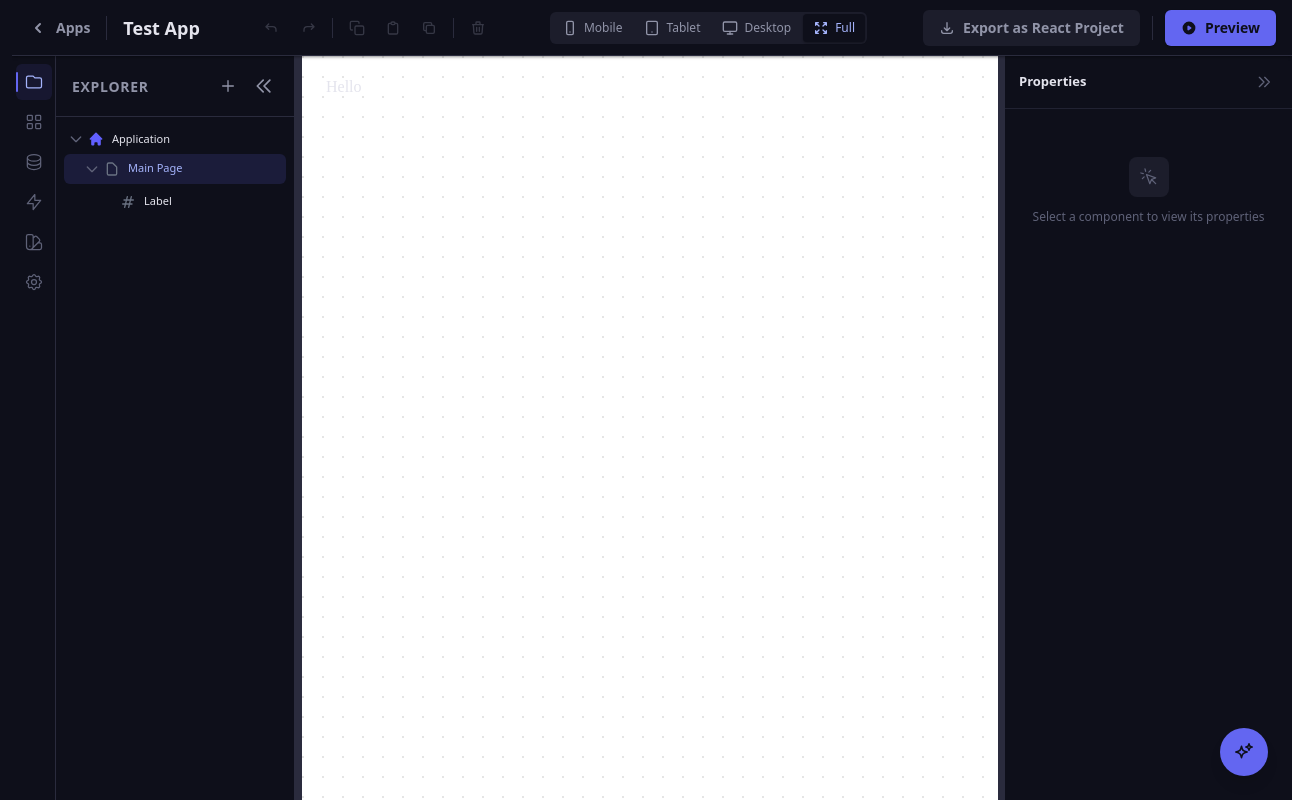
Test: Editor › should open AI chat panel when the AI button is clicked
expect the heading "Test App" is shown: met, box [123,14,200,42]
Click the button with test id "ai-chat-button" at (1244, 752), box [1220,728,1268,776]
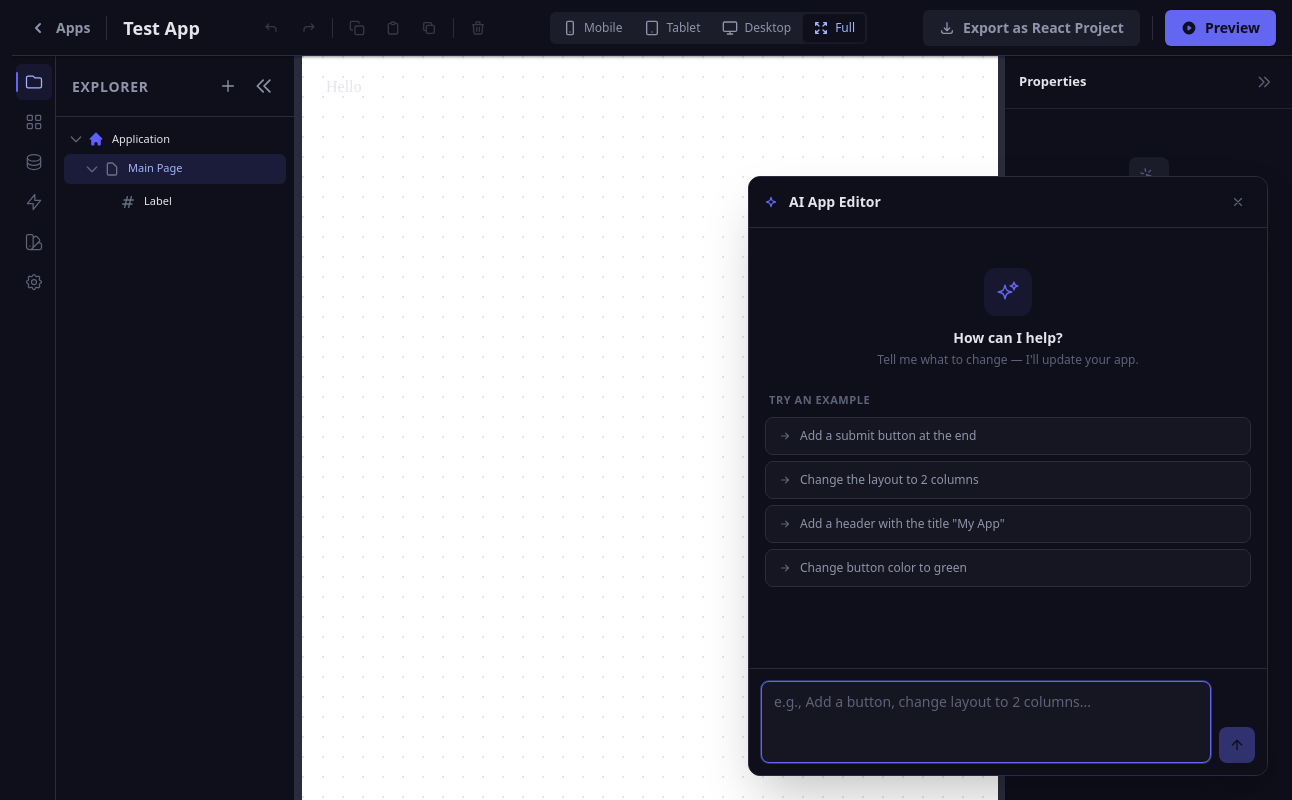
expect the element with test id "ai-chat-box" is shown: met, box [748,176,1268,776]
expect the text box with test id "ai-chat-input" is shown: met, box [761,681,1211,763]
